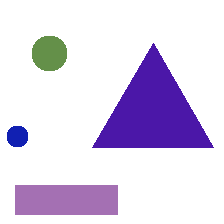circle: (32, 36, 66, 70), (7, 126, 27, 146)
rectangle: (15, 185, 117, 214)
triangle: (92, 43, 213, 147)
